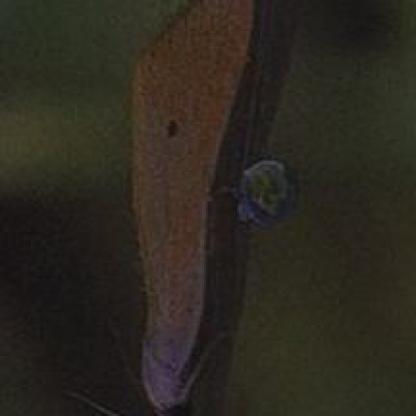stem-borer: (126, 0, 246, 416)
